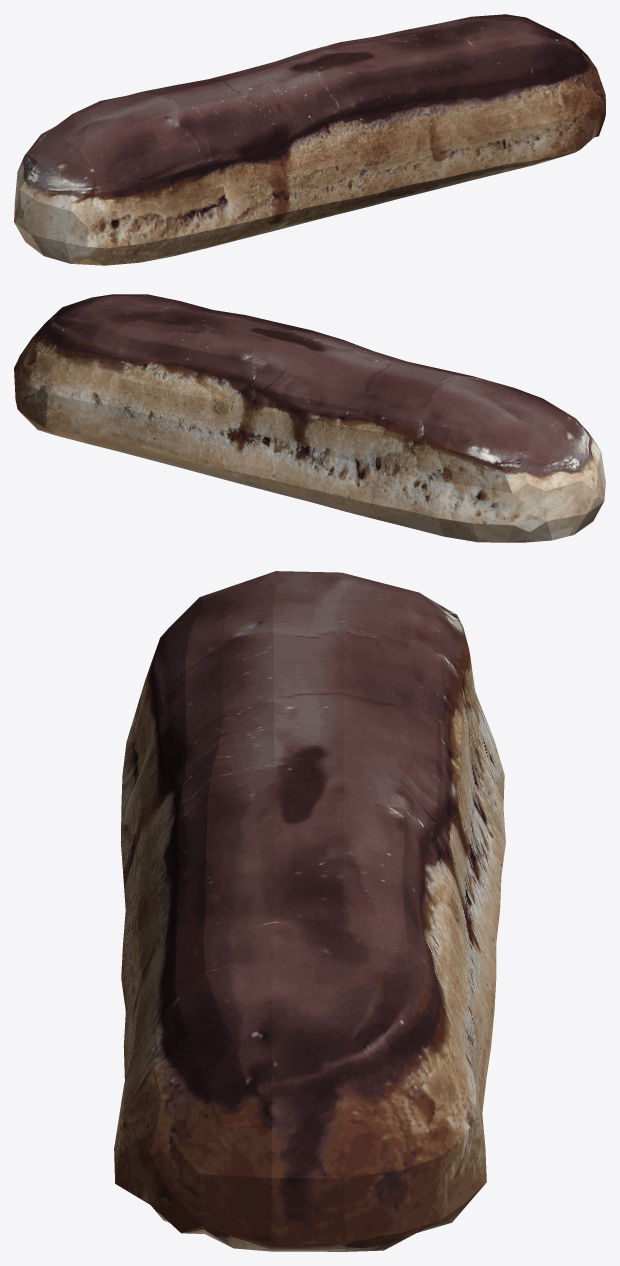
File: eclair_chocolat.glb
3 views of the same model, one above another, from view 1: azimuth 30°, elevation 25°; view 2: azimuth 150°, elevation 25°; view 3: azimuth 270°, elevation 25° (orthographic). The views are drawn at different scales.
Parts seen in each view (by area): view 1: Object_4; view 2: Object_4; view 3: Object_4.
Part boxes in pixels (x1,y1,x2,y2): Object_4: (14,14,605,265); Object_4: (14,294,605,542); Object_4: (114,571,505,1251).
Size of the model in its own units: 0.1545 by 0.0311 by 0.0462.
Materials: 1 (1 with a texture image).
